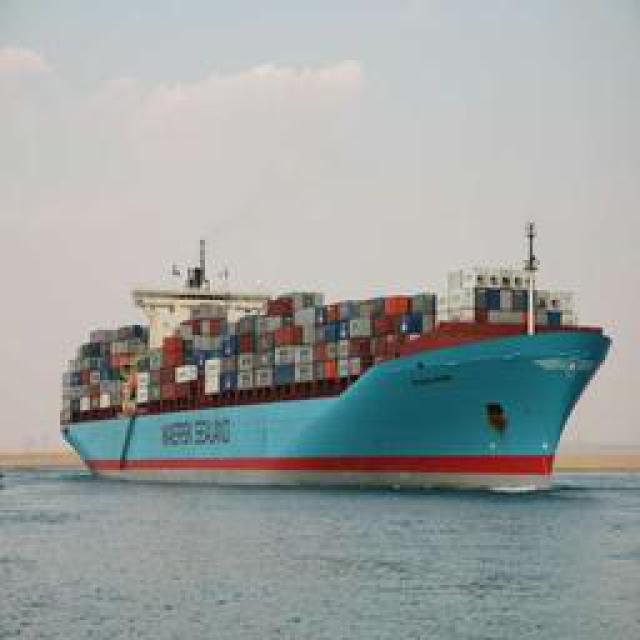Ship: (51, 289, 609, 489)
